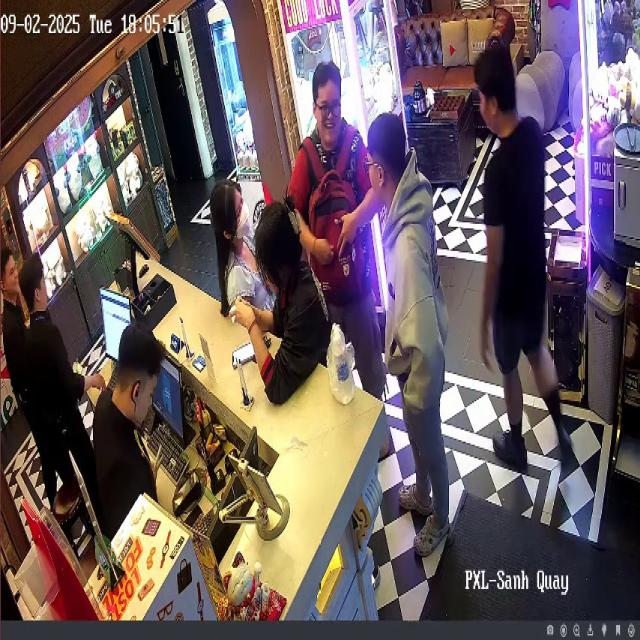khach: (468, 43, 586, 495), (362, 108, 457, 562), (280, 35, 389, 396), (249, 184, 350, 440), (209, 165, 279, 351)
nhan vien: (22, 257, 111, 576), (95, 321, 175, 560), (0, 241, 37, 445)
